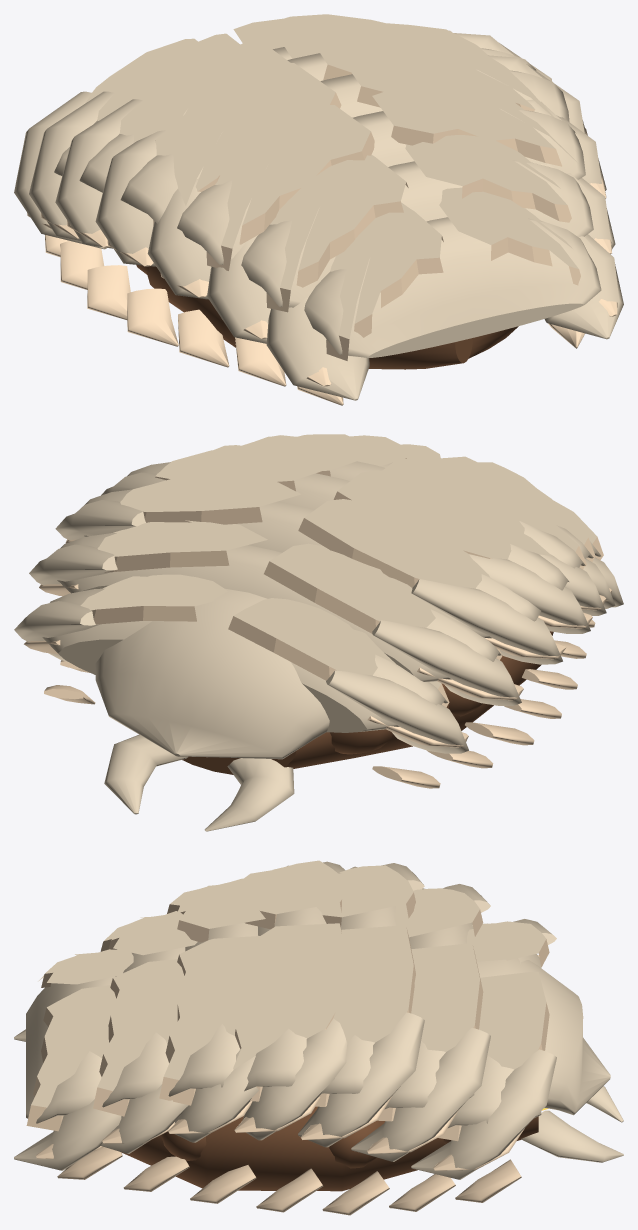
File: tank_shell.glb
The picture shows the model from 3 angles, top to bottom: view 1: azimuth 30°, elevation 25°; view 2: azimuth 150°, elevation 25°; view 3: azimuth 270°, elevation 25°; orthographic projection. The views are drawn at different scales.
Parts seen in each view (by area): view 1: tank_shell; view 2: tank_shell; view 3: tank_shell.
Boxes of the visible parts, x1=… form: tank_shell: x1=14, y1=14, x2=623, y2=405; tank_shell: x1=14, y1=434, x2=623, y2=831; tank_shell: x1=14, y1=860, x2=623, y2=1215.
Size of the model in its own units: 3.7 by 1.85 by 4.04.
